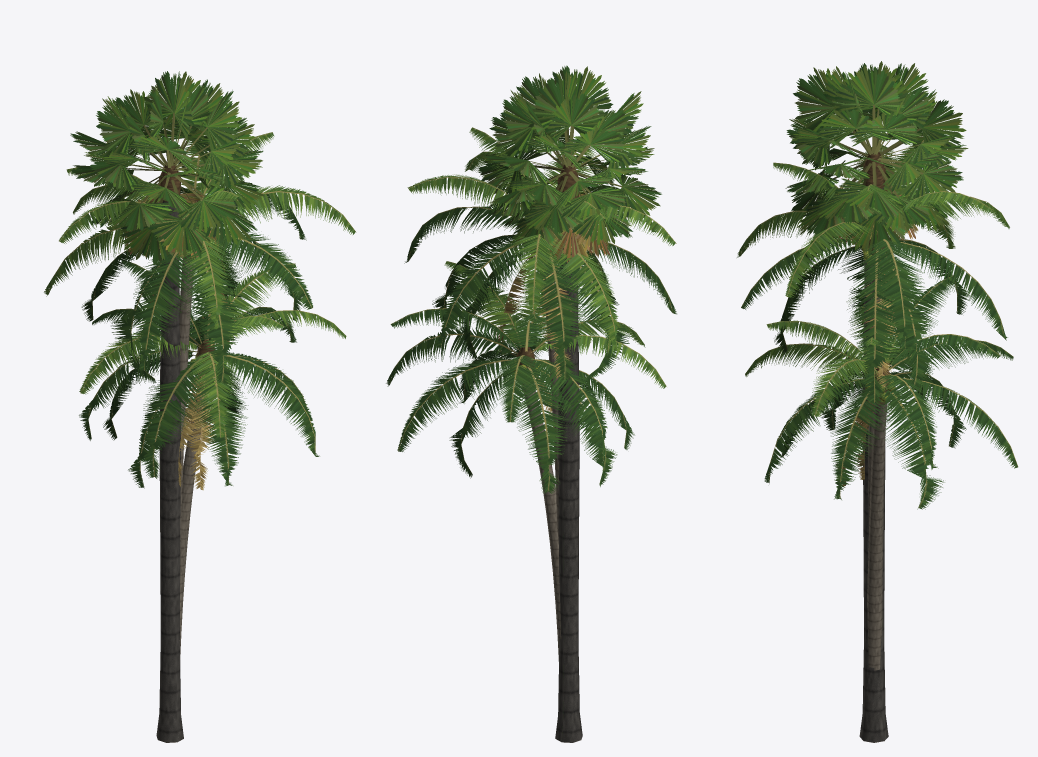
Rendered from palms.fbx.
3 renders of one model, left to right at view 1: azimuth 30°, elevation 25°; view 2: azimuth 150°, elevation 25°; view 3: azimuth 270°, elevation 25°, orthographic. The views are drawn at different scales.
Parts seen in each view (by area): view 1: ToddyPalm, CocoPalm, CocoPalmT; view 2: ToddyPalm, CocoPalm, CocoPalmT; view 3: ToddyPalm, CocoPalm, CocoPalmT.
Boxes of the visible parts, box(x1,y1,x2,y2) form: ToddyPalm: box(70, 71, 264, 742); CocoPalm: box(79, 242, 346, 659); CocoPalmT: box(44, 127, 356, 560); ToddyPalm: box(478, 65, 661, 742); CocoPalm: box(386, 255, 666, 661); CocoPalmT: box(404, 127, 676, 543); ToddyPalm: box(785, 61, 968, 742); CocoPalm: box(745, 275, 1018, 670); CocoPalmT: box(737, 132, 1009, 536).
Size of the model in its own units: 945 by 2275 by 832.
Materials: 3 (3 with a texture image).
